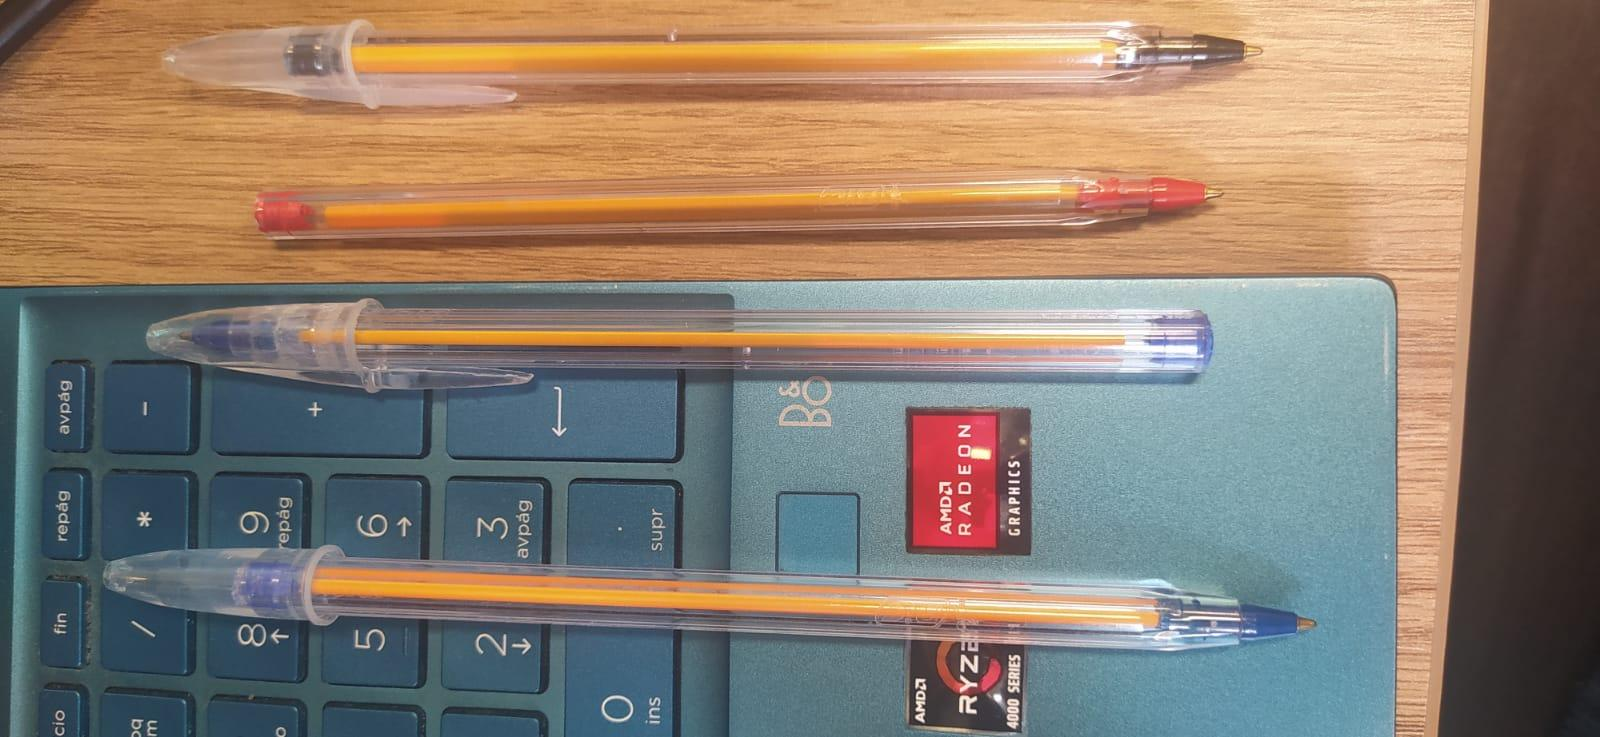pen: (101, 543, 1323, 649), (161, 17, 1272, 109), (144, 299, 1215, 393), (251, 166, 1231, 242)
